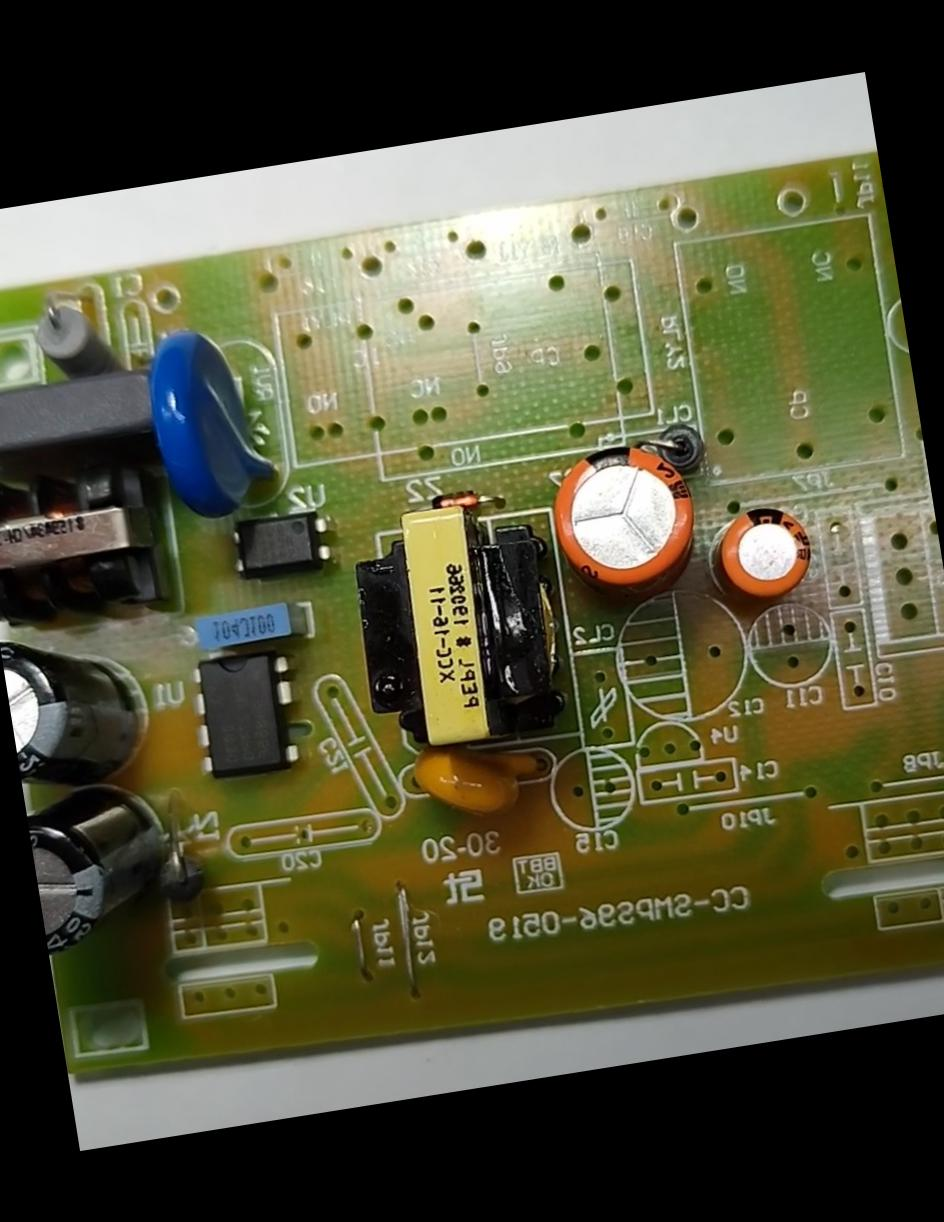Cap1: (541, 429, 713, 606)
Cap2: (703, 492, 830, 610)
Cap3: (0, 613, 159, 797)
Cap4: (23, 769, 184, 965)
MOSFET: (176, 640, 311, 785)
Mov: (135, 306, 300, 534)
Resistor: (18, 284, 120, 383)
Transformer: (337, 496, 571, 770), (0, 449, 191, 640)
